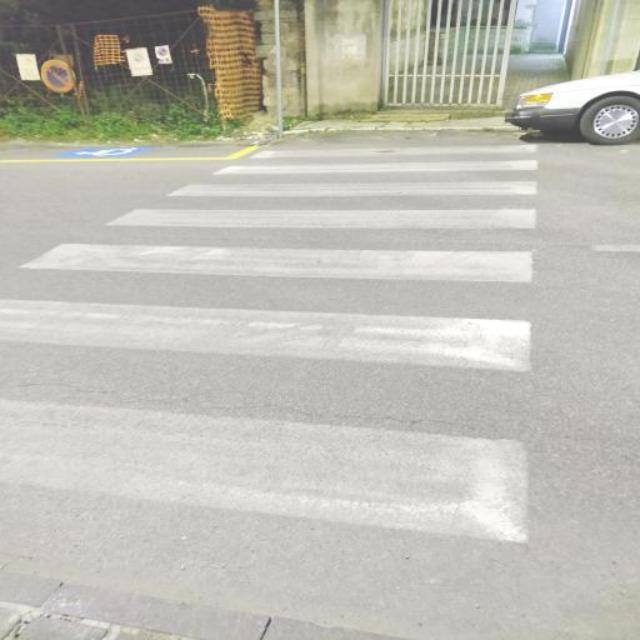sidewalk: (0, 136, 536, 639)
